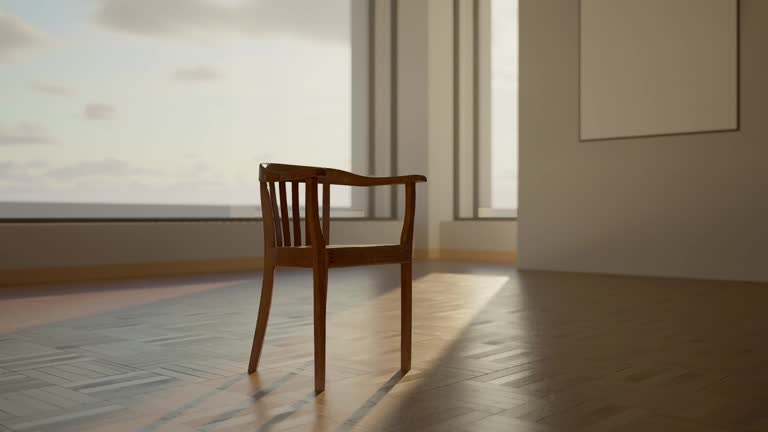Chair: (219, 138, 496, 417)
